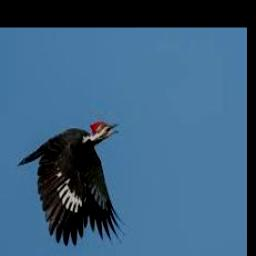Woodpecker: (18, 120, 125, 247)
